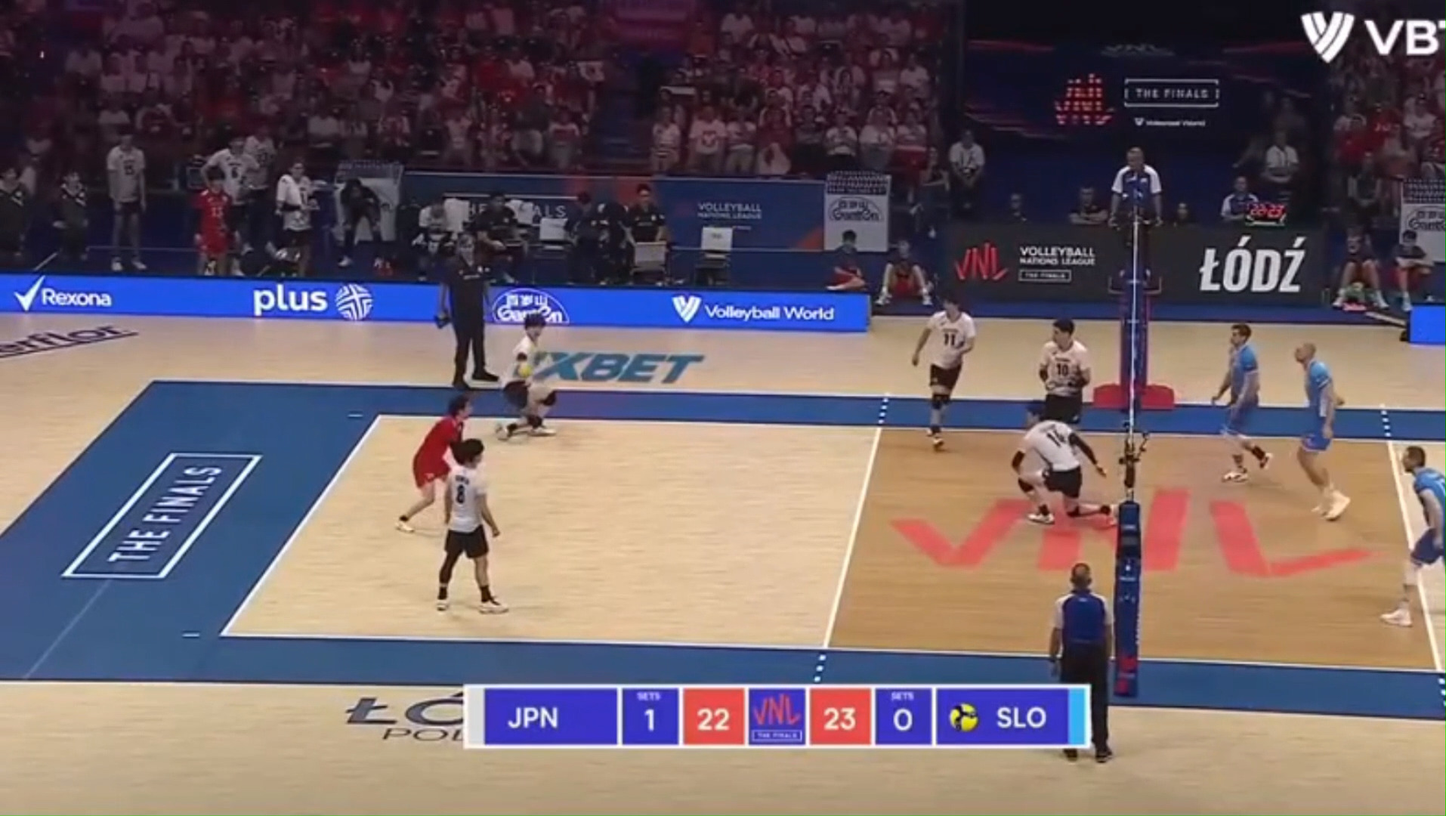ball: (518, 362, 532, 377)
player: (1380, 446, 1445, 626), (1294, 342, 1349, 520), (1211, 323, 1271, 482)
player 1: (436, 438, 507, 613), (1011, 403, 1113, 524), (911, 295, 976, 450), (397, 393, 469, 531), (499, 312, 556, 439), (1038, 319, 1091, 425)
referee: (1049, 562, 1113, 762), (437, 233, 497, 389), (1109, 147, 1162, 293)
